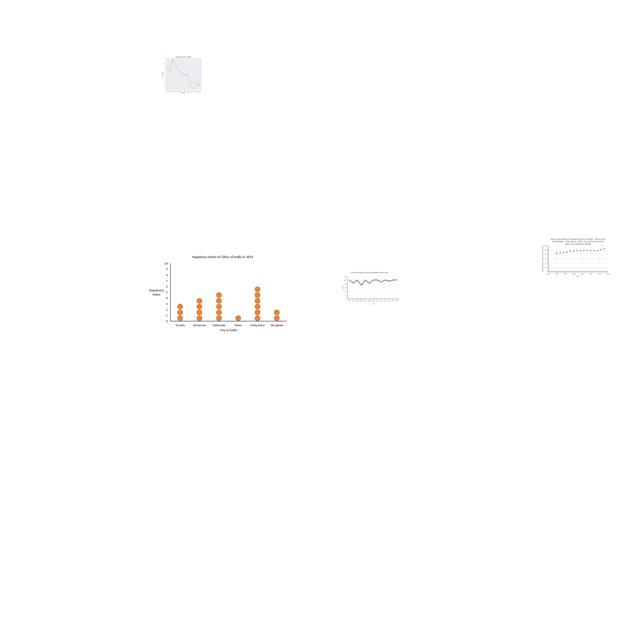Graph: (145, 253, 288, 336), (541, 237, 611, 279), (152, 53, 213, 95), (340, 271, 402, 306)
